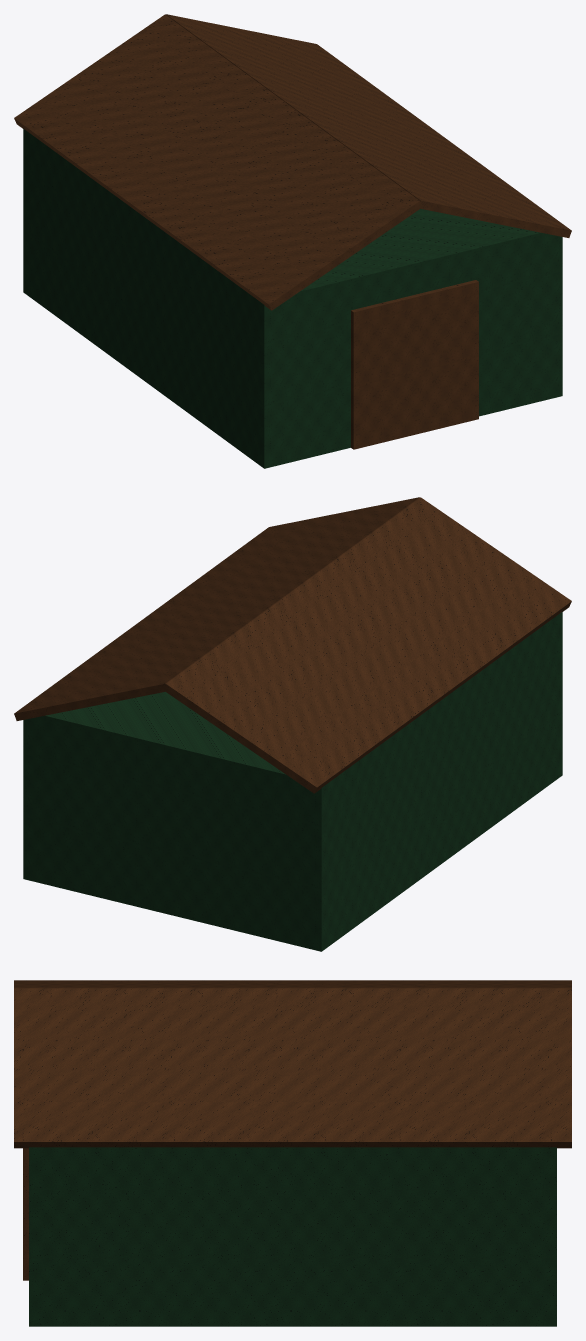
The model's file is PROP-B2E2C8C2802A_lod2.glb.
3 views of the same model, one above another, from view 1: azimuth 30°, elevation 25°; view 2: azimuth 150°, elevation 25°; view 3: azimuth 270°, elevation 25° (orthographic). The views are drawn at different scales.
Visible parts, largest first — view 1: barn_roof.001, barn_walls.001, barn_door.001; view 2: barn_walls.001, barn_roof.001; view 3: barn_walls.001, barn_roof.001, barn_door.001.
Part boxes in pixels (left/top/right/bottom): barn_roof.001: left=14, top=14, right=571, bottom=310; barn_walls.001: left=23, top=128, right=562, bottom=468; barn_door.001: left=351, top=280, right=478, bottom=449; barn_walls.001: left=23, top=611, right=562, bottom=951; barn_roof.001: left=14, top=497, right=571, bottom=793; barn_walls.001: left=29, top=1147, right=556, bottom=1326; barn_roof.001: left=14, top=980, right=571, bottom=1148; barn_door.001: left=23, top=1148, right=28, bottom=1280.
Bounding box in the file's own units: 5.08 × 3.79 × 7.4.
2 materials, 2 textured.
